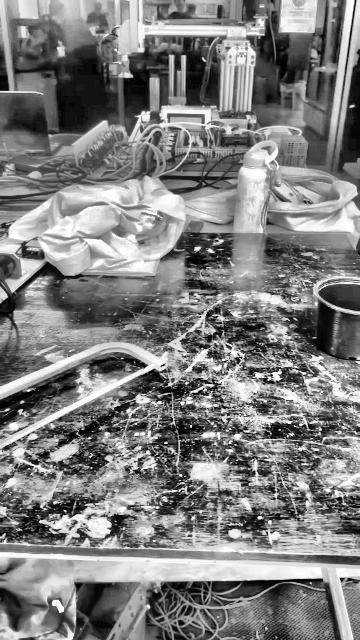pot: (313, 277, 360, 360)
